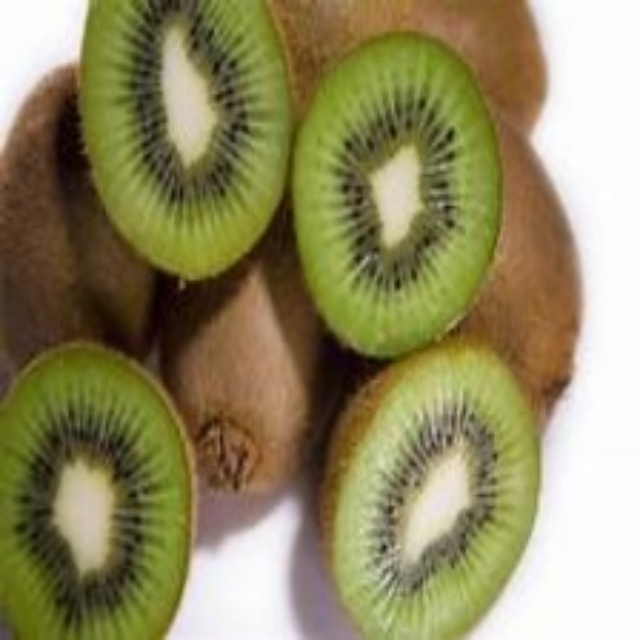kiwi: (282, 35, 496, 363), (79, 1, 300, 280), (322, 338, 535, 627), (152, 245, 351, 518), (6, 344, 186, 632)
